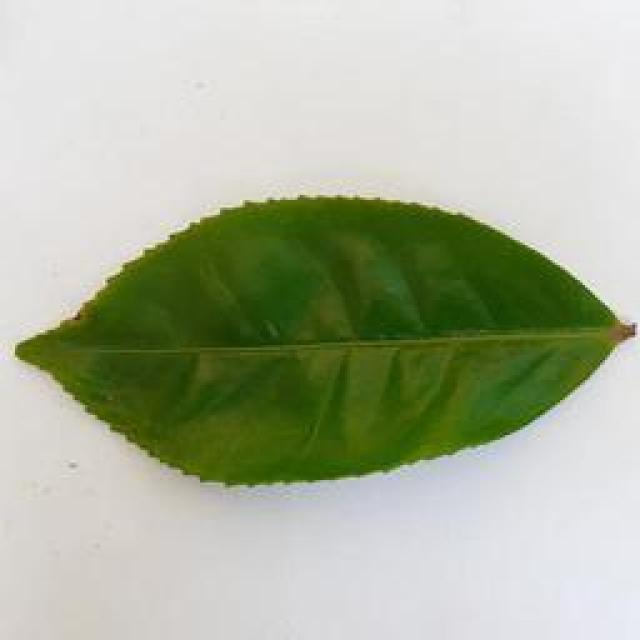Healthy: (15, 173, 640, 505)
